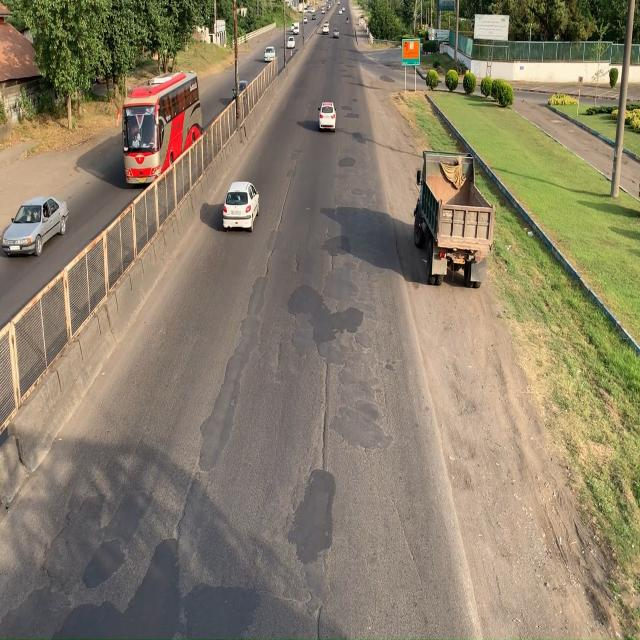Bus: (124, 75, 197, 188)
Truck: (414, 152, 498, 292)
cars: (0, 198, 67, 258), (223, 181, 260, 232)
